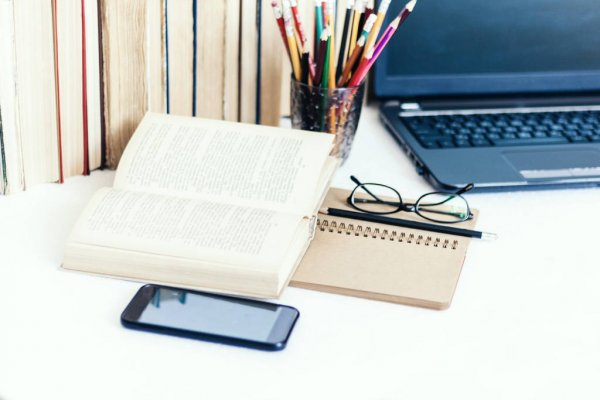Open Book: (65, 120, 337, 294)
